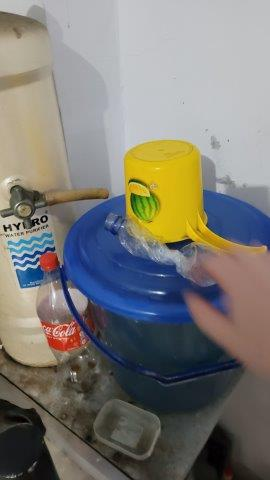botolplastik: (29, 253, 106, 397), (105, 210, 220, 290)
